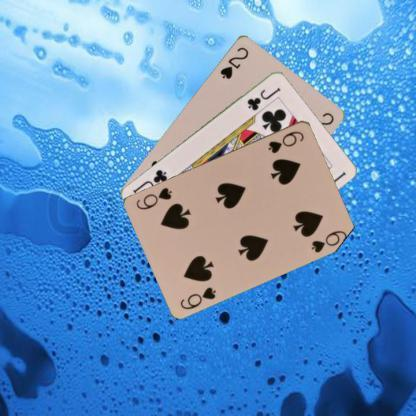2s: (217, 43, 250, 80)
6s: (265, 128, 306, 154), (177, 284, 218, 310)
Jc: (244, 84, 282, 112)
